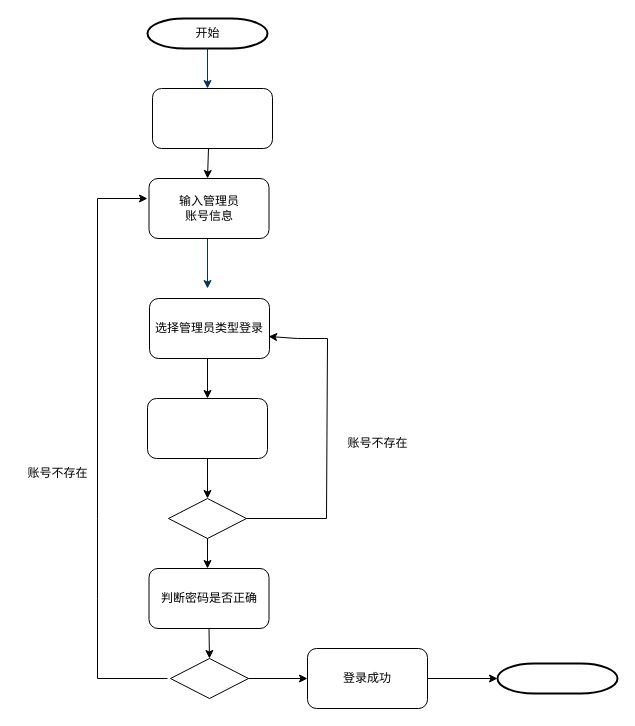
Some shapes in this 635 by 726 pixel diagram are drawn without their labels. The box of each missing label's shape, as (x1, y1, x2, y2) in pixels:
判断账号是否存在: (146, 398, 268, 458)
结束: (496, 662, 618, 694)
进入登录界面: (152, 88, 272, 148)
